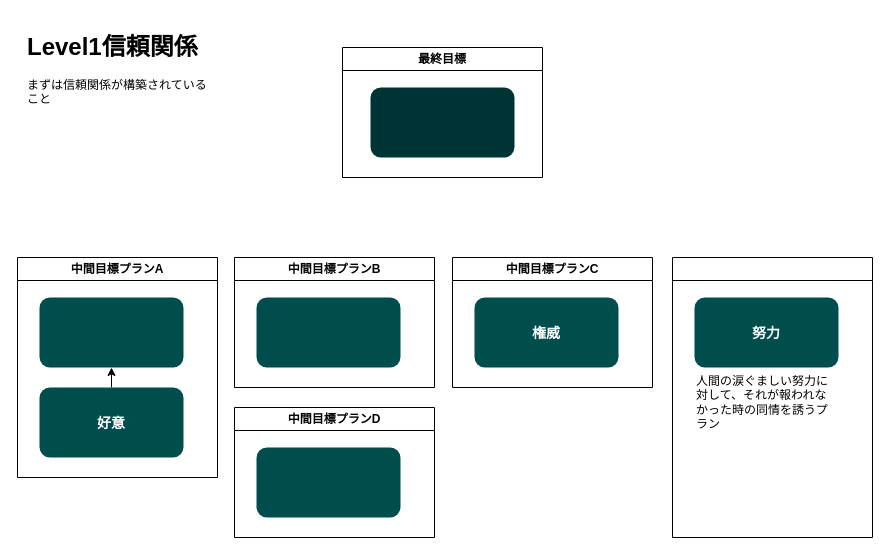
Some shapes in this 890 by 555 pixel diagram are drawn without their labels. Each missing label, with the centre of its shape:
コントロールする or 動いてもらう: point 442,122
希少性の原理: point 328,482
社会的証明の原理 多数の原理: point 328,332
返報性の原理: point 111,332
